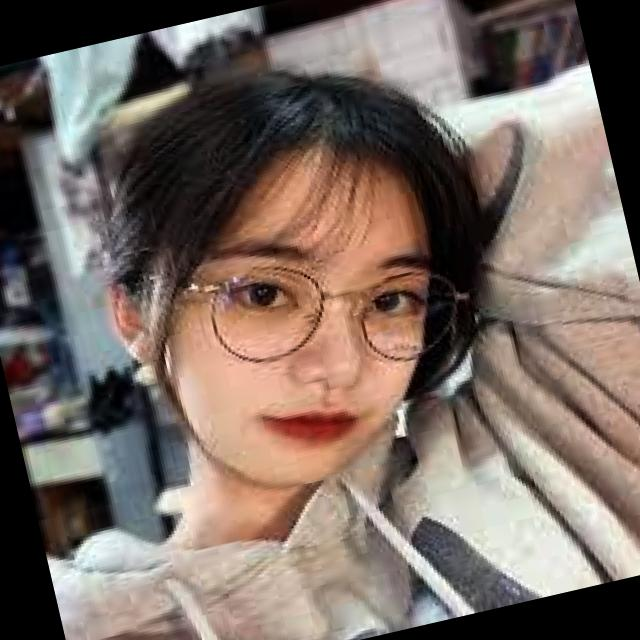glasses: (145, 202, 482, 421)
